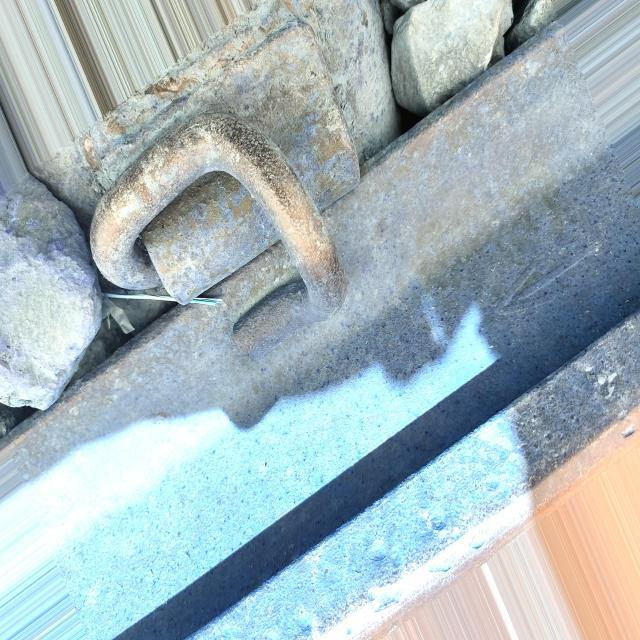Good Fasteners: (66, 23, 385, 394)
